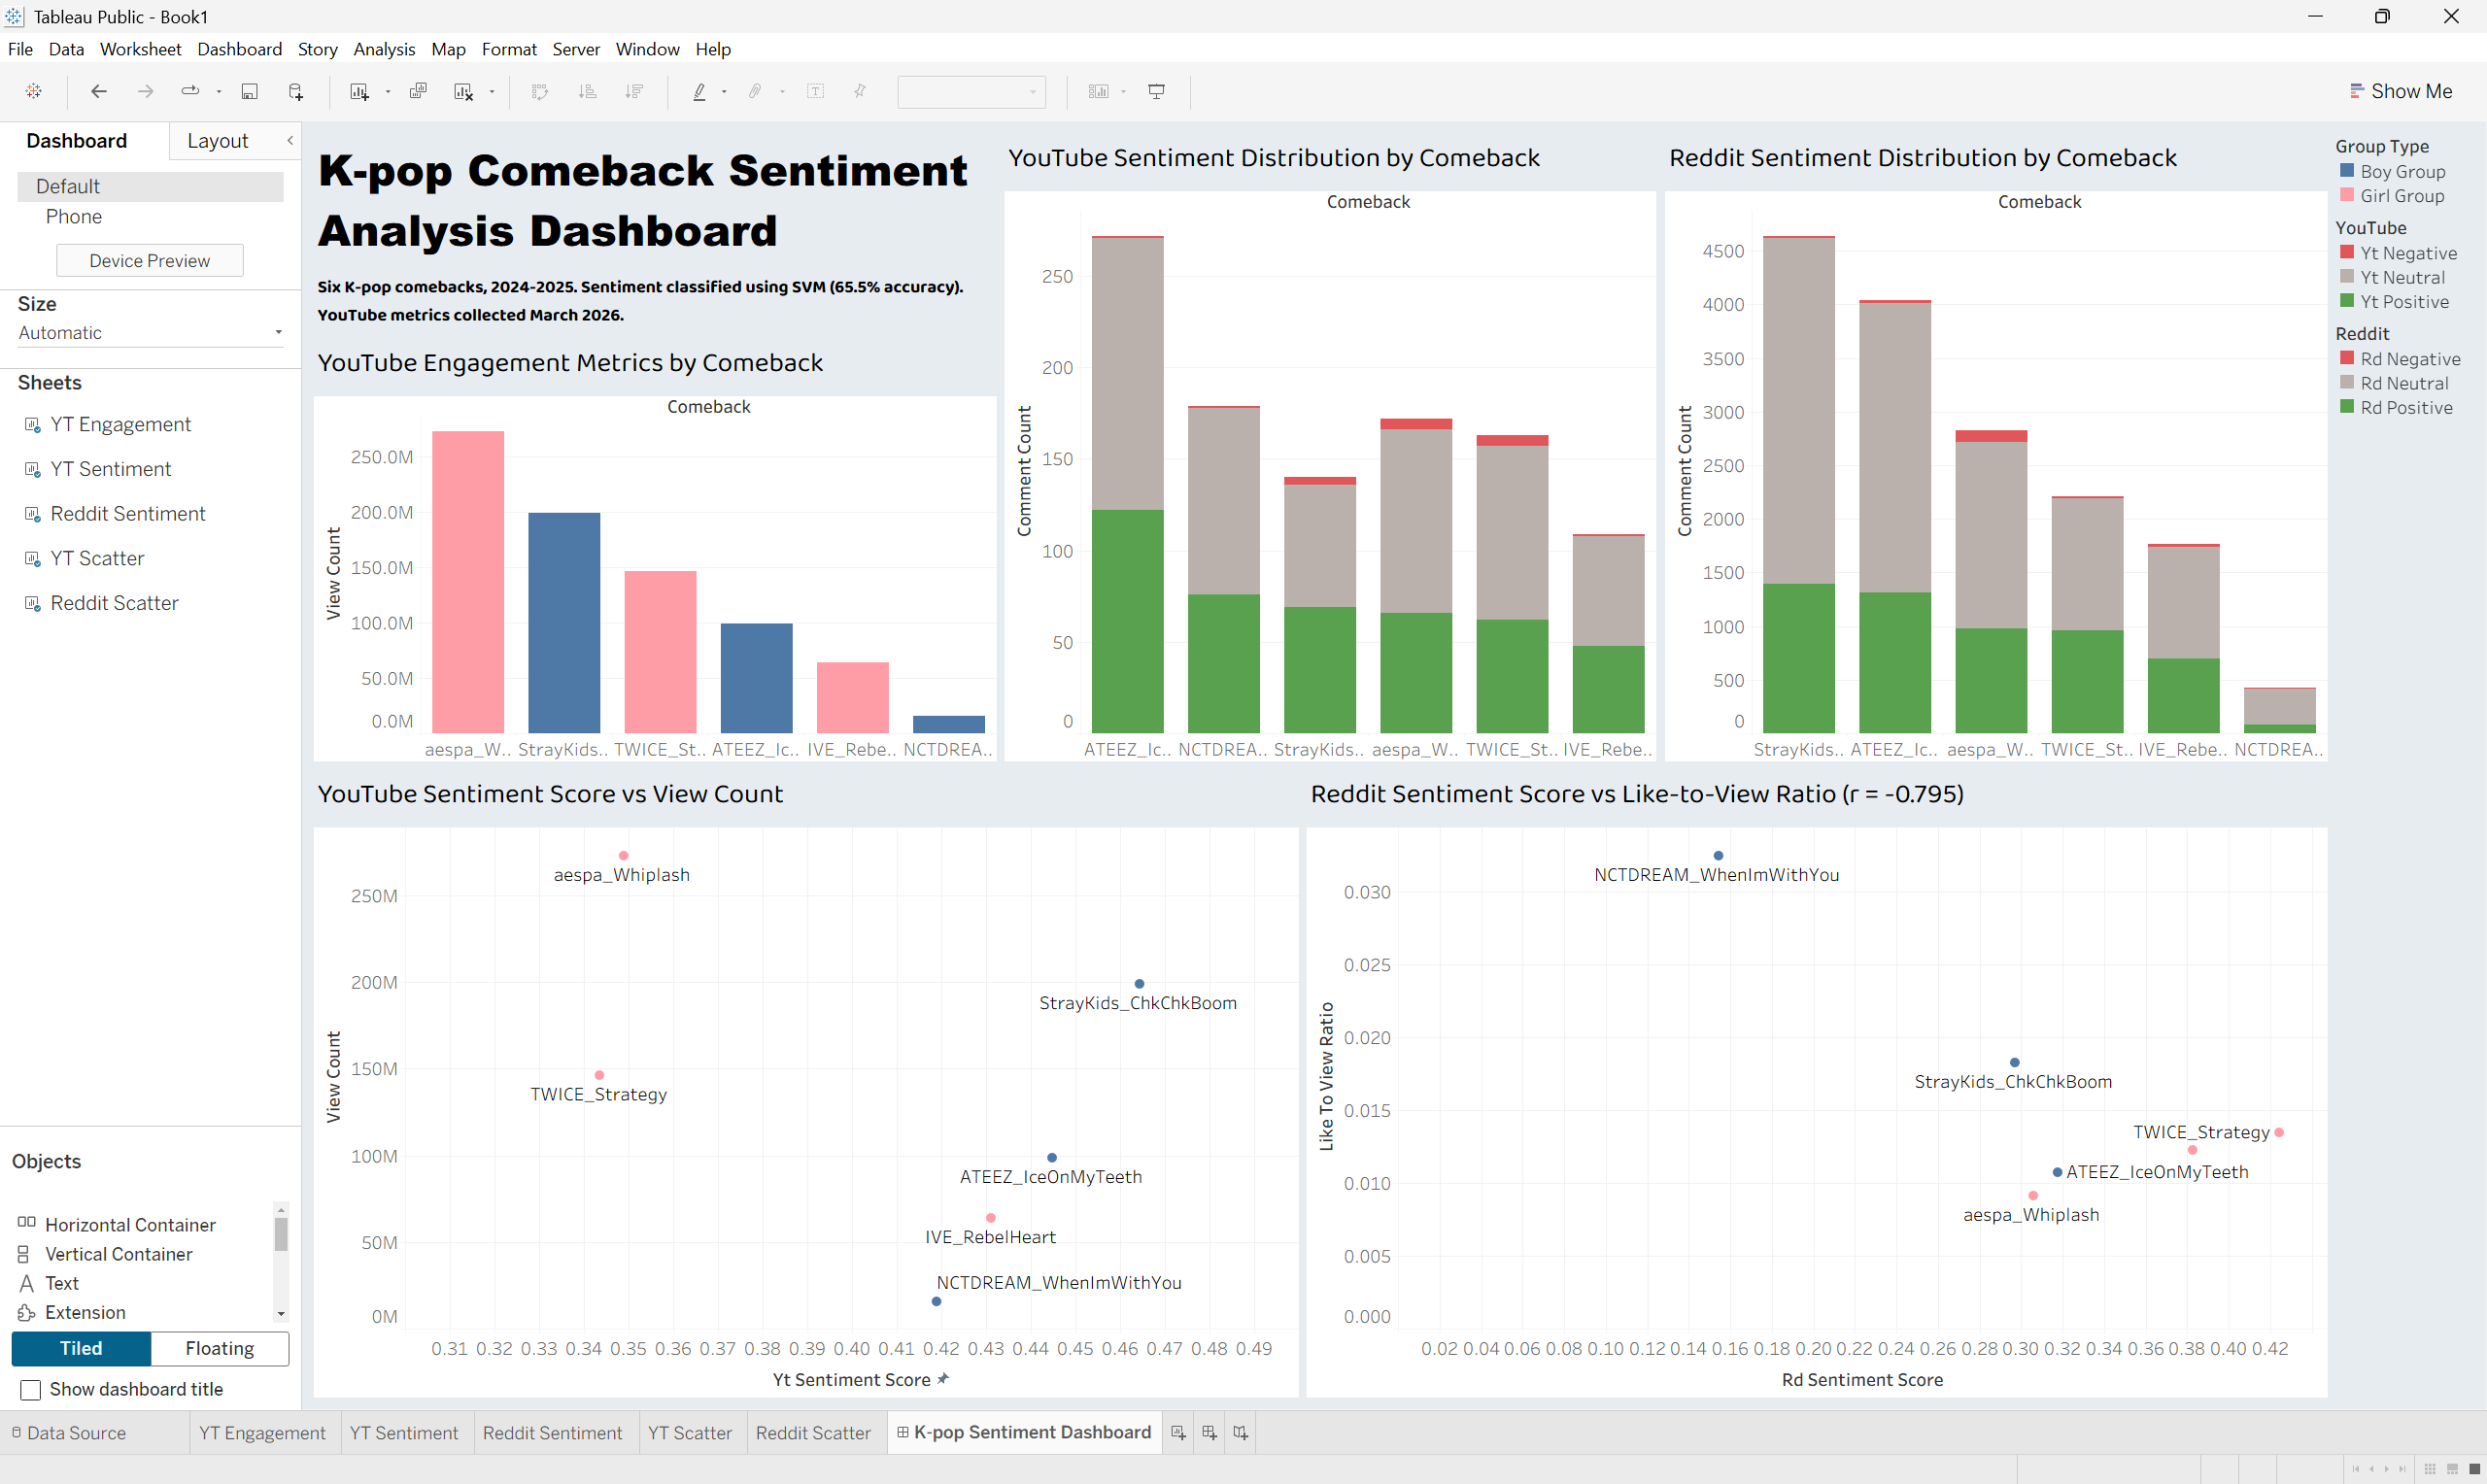

The dashboard page shown, as its layout file describes it:
{"tool":"tableau","page":{"name":"K-pop Sentiment Dashboard","canvas":[1000,1000],"units":"permille","ordinal":0},"visuals":[{"type":"title","box":[3.6,6,316.4,109.4]},{"type":"worksheet","title":"YT Sentiment","mark":"Bar","cols":["comeback"],"box":[320,6,302.2,494]},{"type":"worksheet","title":"Reddit Sentiment","mark":"Bar","cols":["comeback"],"box":[622.1,6,307.1,494]},{"type":"legend","title":"YT Engagement","param":"[federated.0571p3m132pb6c1eibl481gqeh1n].[none:group_type:nk]","box":[929.3,6,67.2,63.4]},{"type":"legend","title":"YT Sentiment","param":"[federated.0571p3m132pb6c1eibl481gqeh1n].[:Measure Names]","box":[929.3,69.4,67.2,82.2]},{"type":"text","box":[3.6,115.4,316.4,49.8]},{"type":"legend","title":"Reddit Sentiment","param":"[federated.0571p3m132pb6c1eibl481gqeh1n].[:Measure Names]","box":[929.3,151.6,67.2,82.2]},{"type":"worksheet","title":"YT Engagement","mark":"Automatic","rows":["view_count"],"cols":["comeback"],"box":[3.6,165.2,316.4,334.9]},{"type":"worksheet","title":"YT Scatter","mark":"Circle","rows":["view_count"],"cols":["yt_sentiment_score"],"box":[3.6,500,454.6,494]},{"type":"worksheet","title":"Reddit Scatter","mark":"Circle","rows":["like_to_view_ratio"],"cols":["rd_sentiment_score"],"box":[458.2,500,471.1,494]}]}

Visuals, with their boxes on the dashboard's canvas, which has no fixed pixel size, in thousandths of its width and height (x1, y1, x2, y2). These are canvas units, not pixel positions in the 2487x1484 screenshot, which may show the page scaled, cropped or inside an application window:
title: BBox(4, 6, 320, 115)
"YT Sentiment" worksheet (Bar marks): BBox(320, 6, 622, 500)
"Reddit Sentiment" worksheet (Bar marks): BBox(622, 6, 929, 500)
"YT Engagement" legend: BBox(929, 6, 996, 69)
"YT Sentiment" legend: BBox(929, 69, 996, 152)
text: BBox(4, 115, 320, 165)
"Reddit Sentiment" legend: BBox(929, 152, 996, 234)
"YT Engagement" worksheet: BBox(4, 165, 320, 500)
"YT Scatter" worksheet (Circle marks): BBox(4, 500, 458, 994)
"Reddit Scatter" worksheet (Circle marks): BBox(458, 500, 929, 994)
